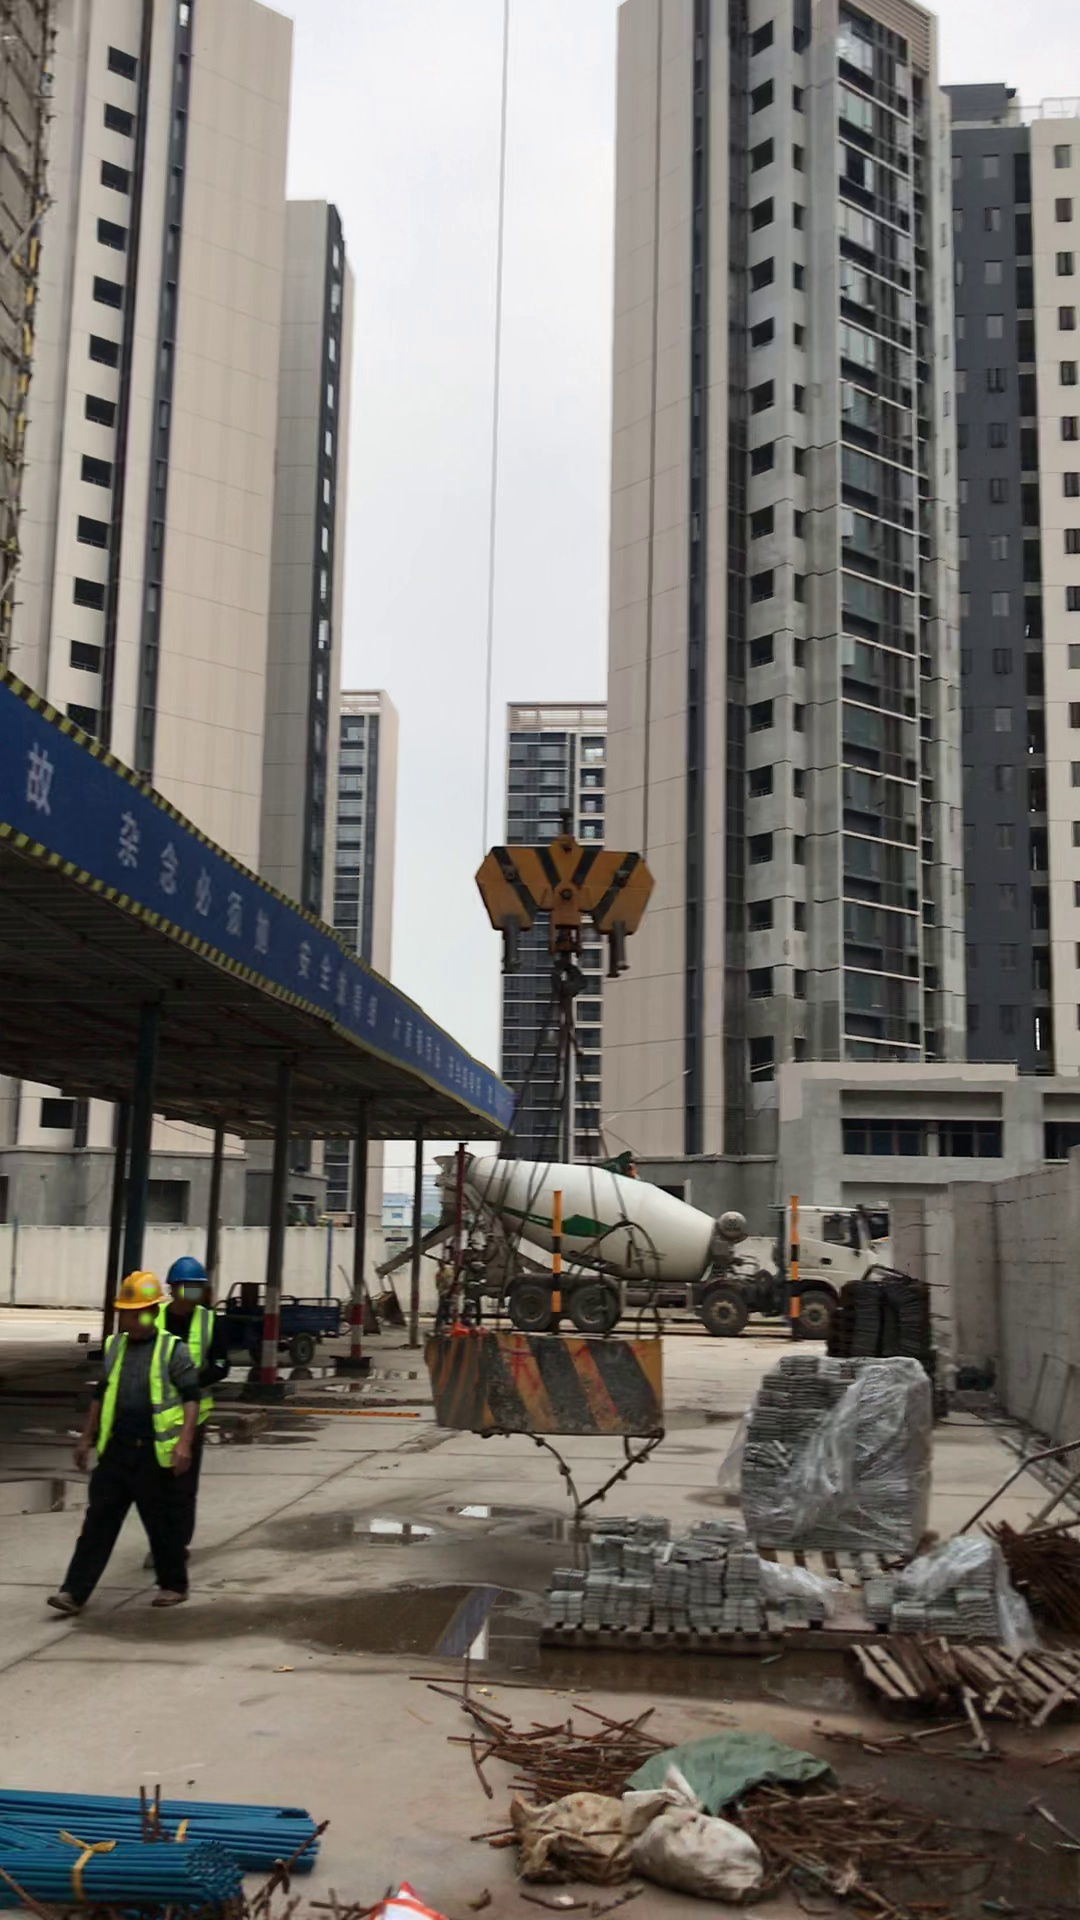handcart: (343, 1259, 406, 1326)
helmet: (109, 1259, 167, 1319), (160, 1244, 221, 1293)
hook: (475, 808, 660, 965)
person: (55, 1272, 182, 1618), (167, 1233, 236, 1519)
slogan: (2, 665, 517, 1131)
vest: (98, 1322, 182, 1473)
